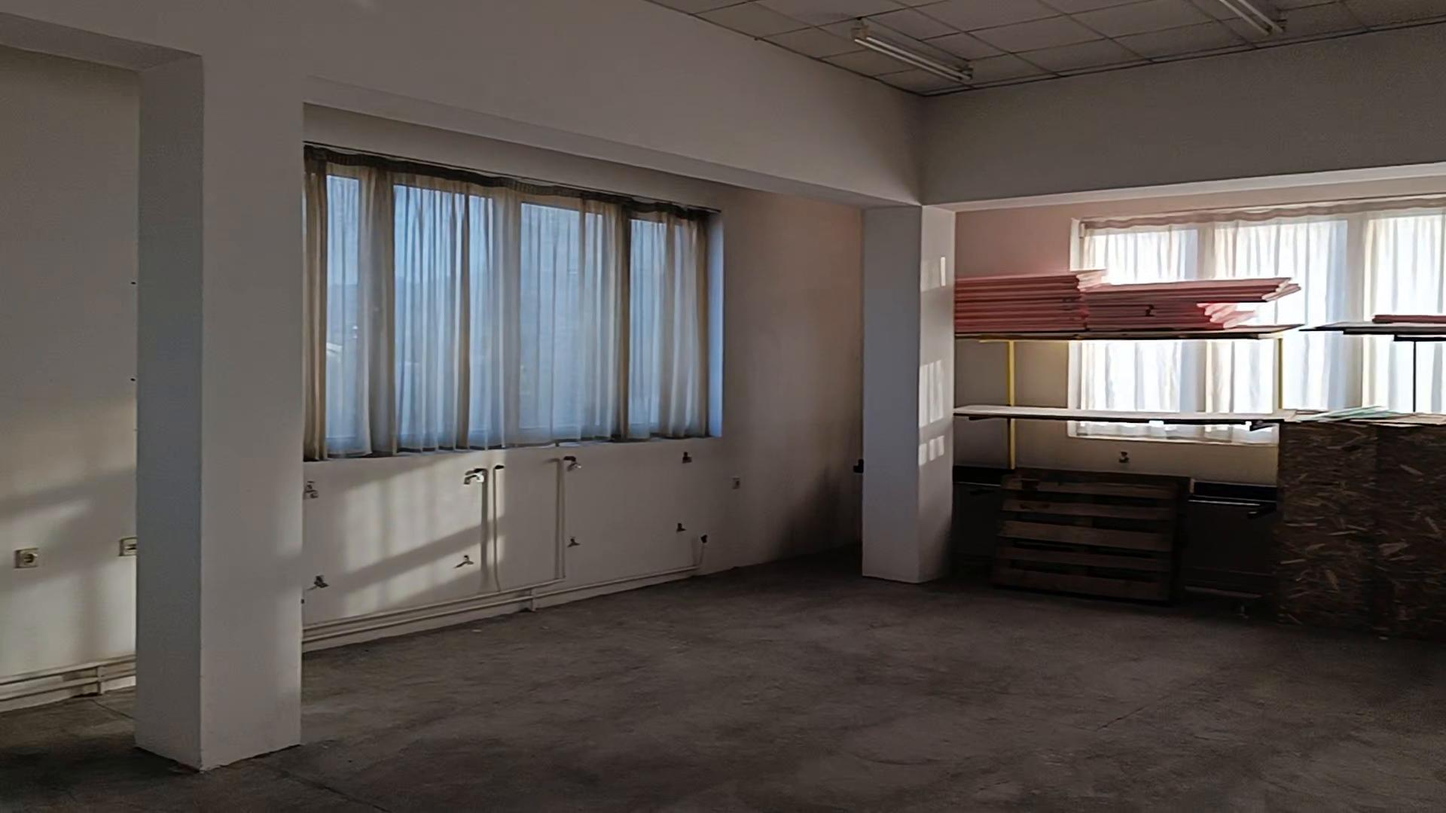ceiling: (651, 0, 1445, 95)
floor: (0, 562, 1445, 812)
wall: (4, 1, 1445, 768), (311, 196, 859, 644), (6, 50, 131, 708)
